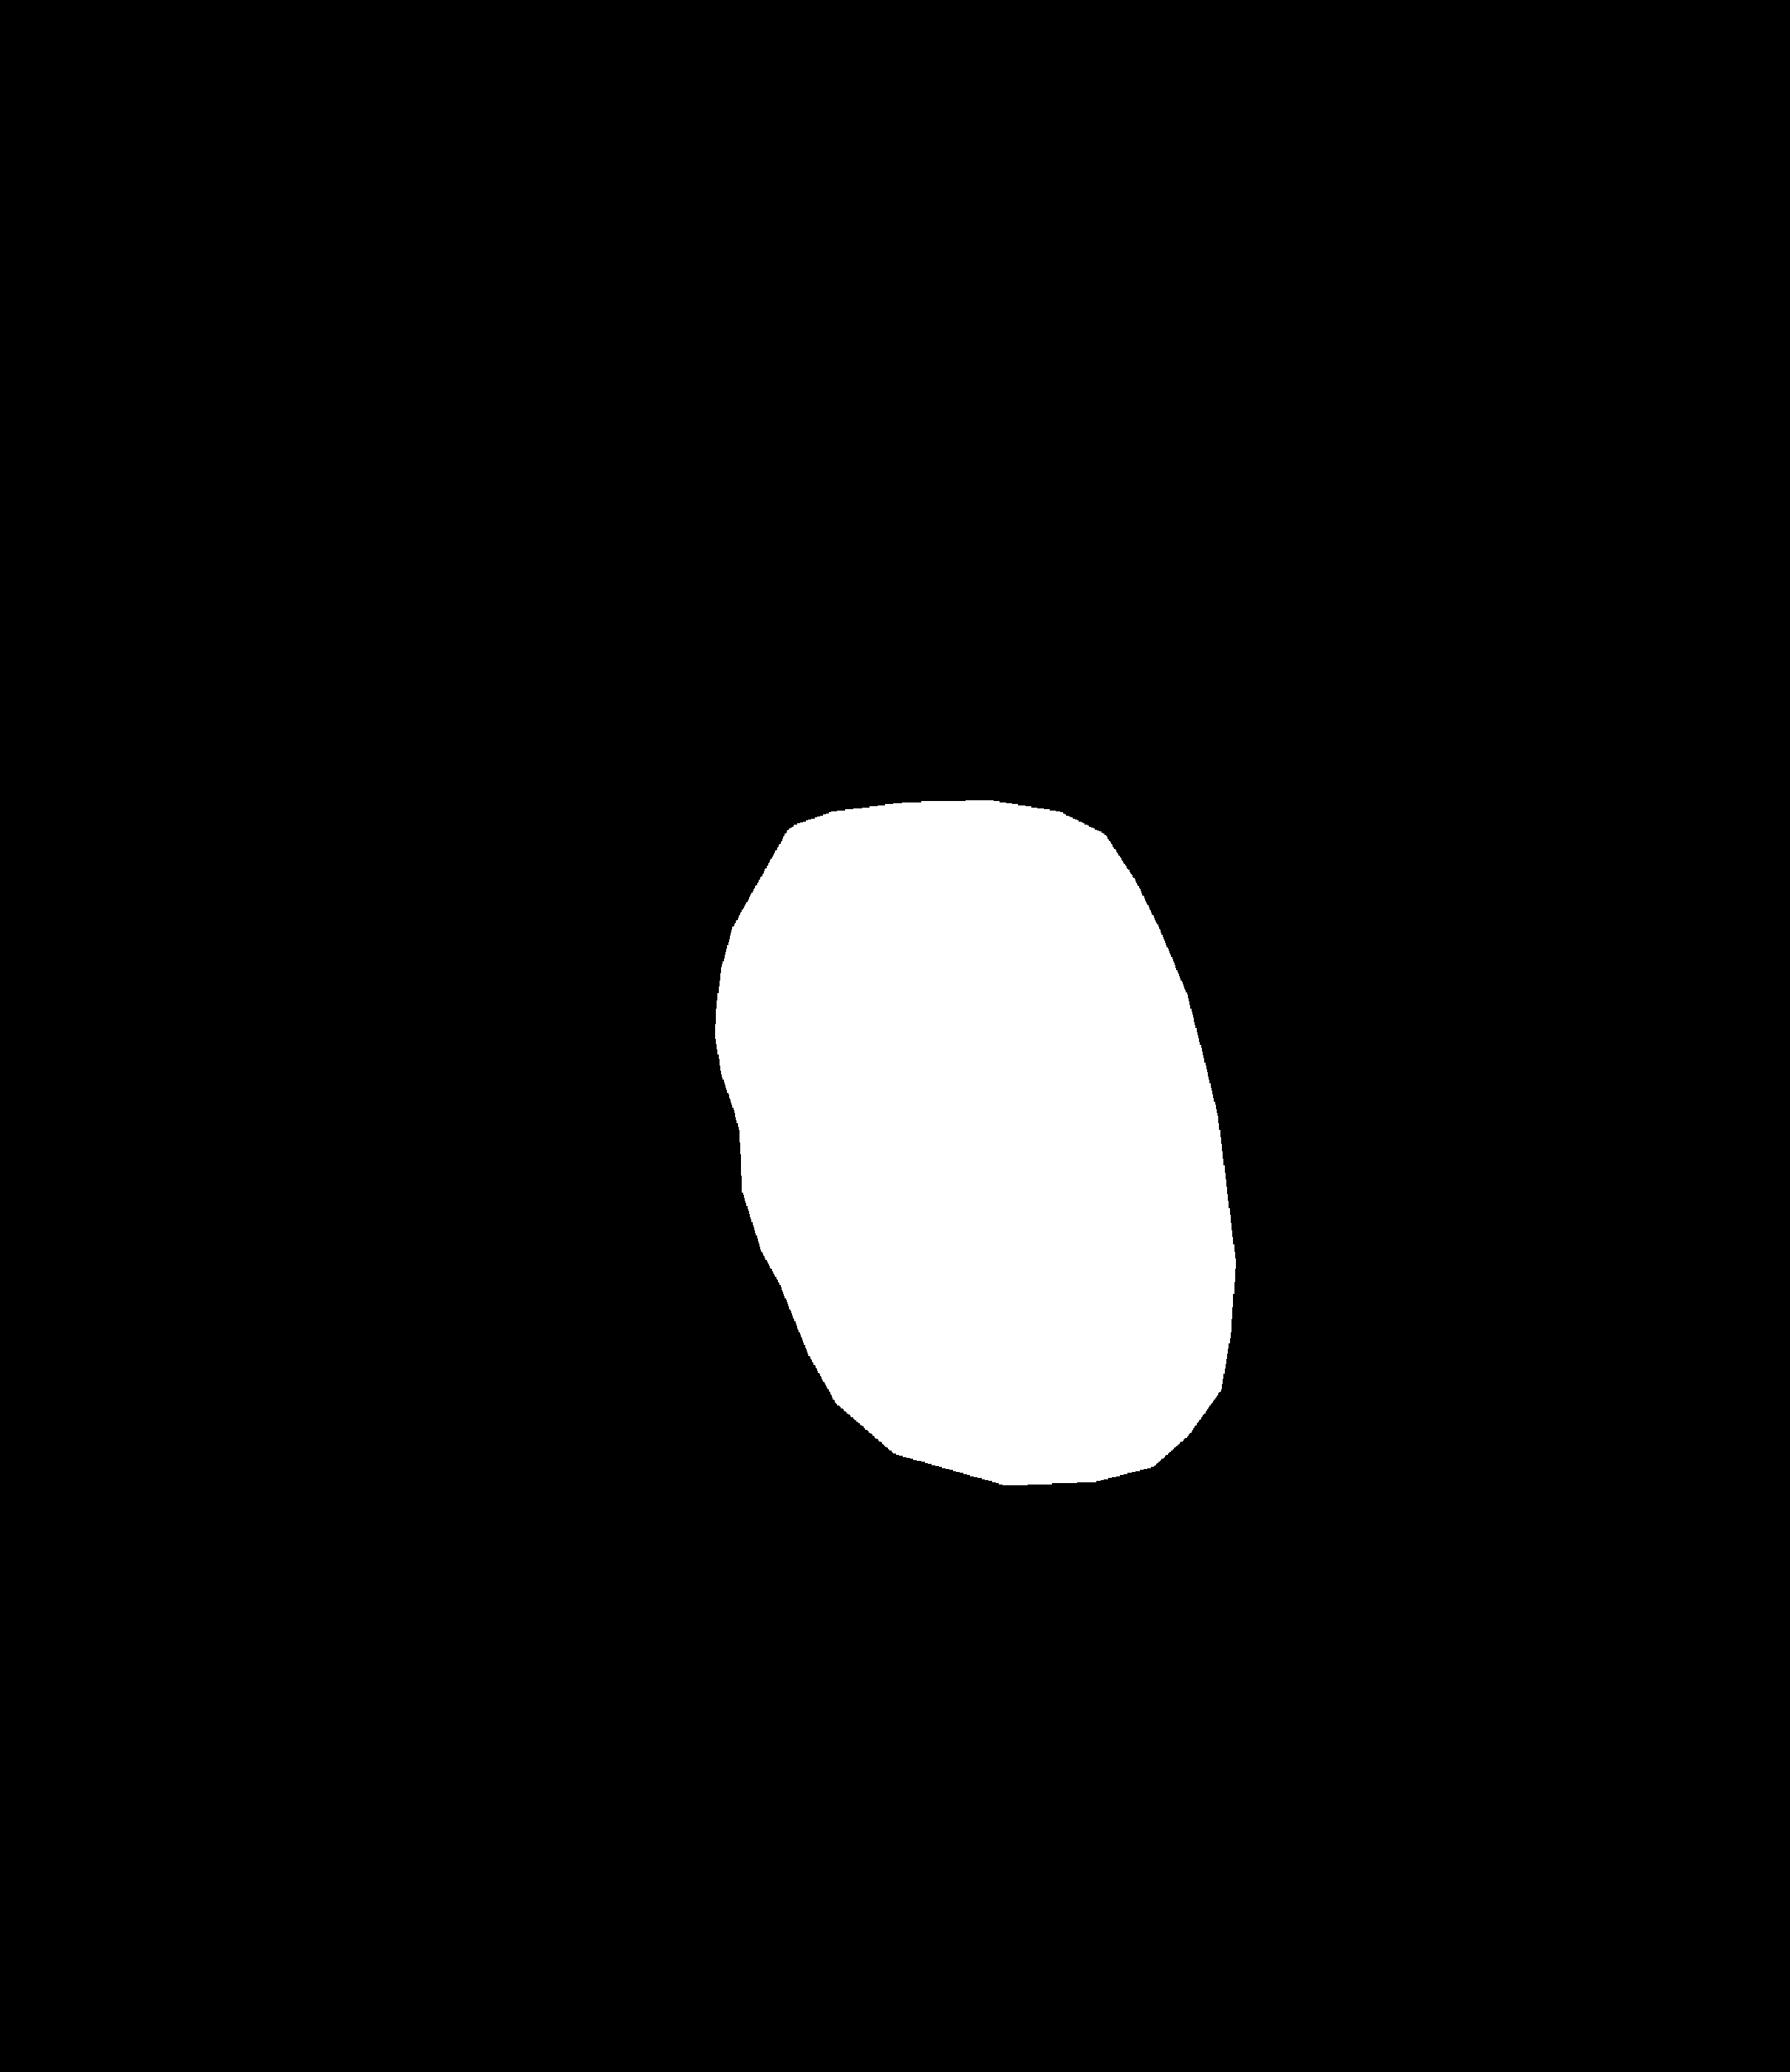heart: (714, 812, 1235, 1487)
left_lung: (218, 159, 821, 1797)
right_lung: (994, 150, 1575, 1720)
